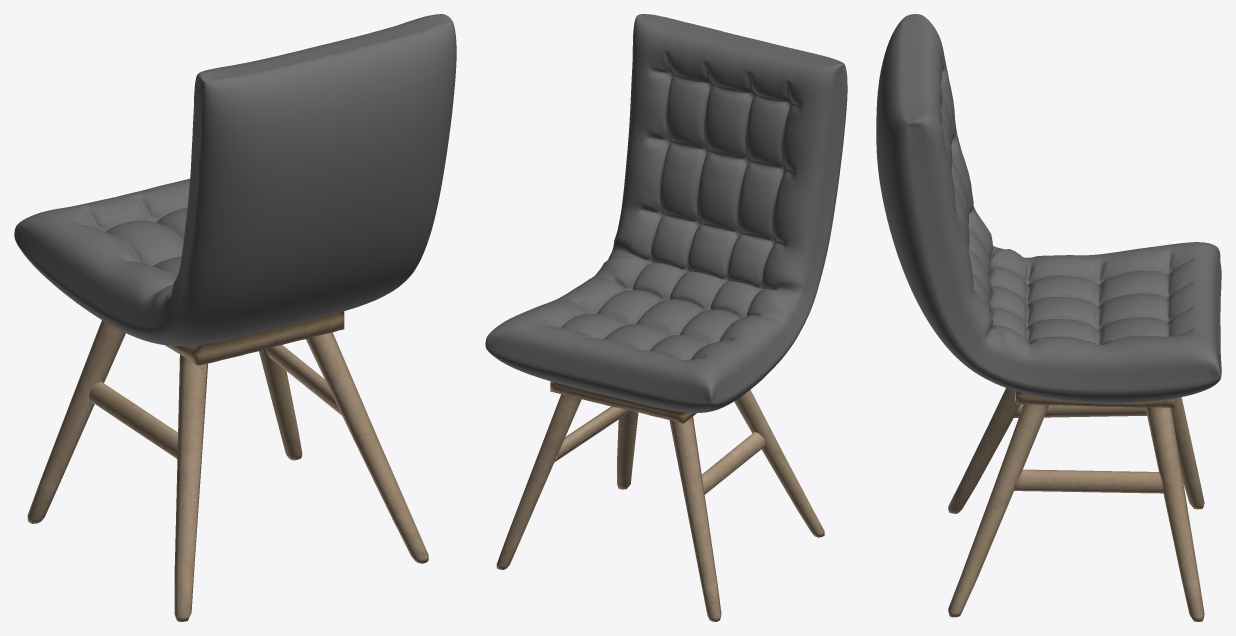
File: Chair09.fbx
3 views of the same model, side by side, from view 1: azimuth 30°, elevation 25°; view 2: azimuth 150°, elevation 25°; view 3: azimuth 270°, elevation 25° (orthographic). The views are drawn at different scales.
Parts seen in each view (by area): view 1: Chair09; view 2: Chair09; view 3: Chair09.
Boxes of the visible parts, box(x1,y1,x2,y2) form: Chair09: box(14, 14, 456, 621); Chair09: box(485, 14, 847, 621); Chair09: box(876, 14, 1221, 621).
Bounding box in the file's own units: 50.3 × 97.22 × 61.21.
